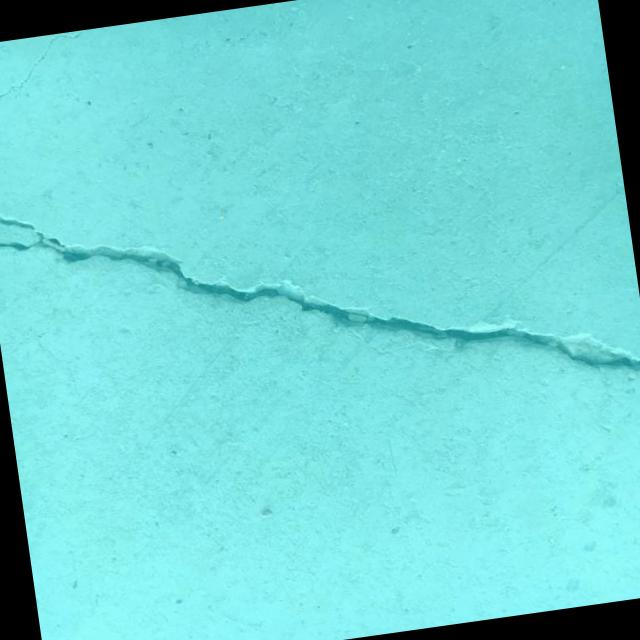crack: (0, 126, 640, 460), (0, 30, 95, 113)
